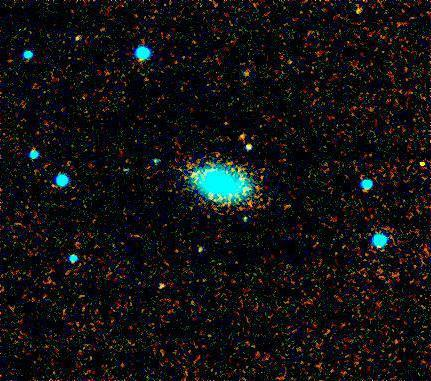star: (405, 144, 431, 174)
